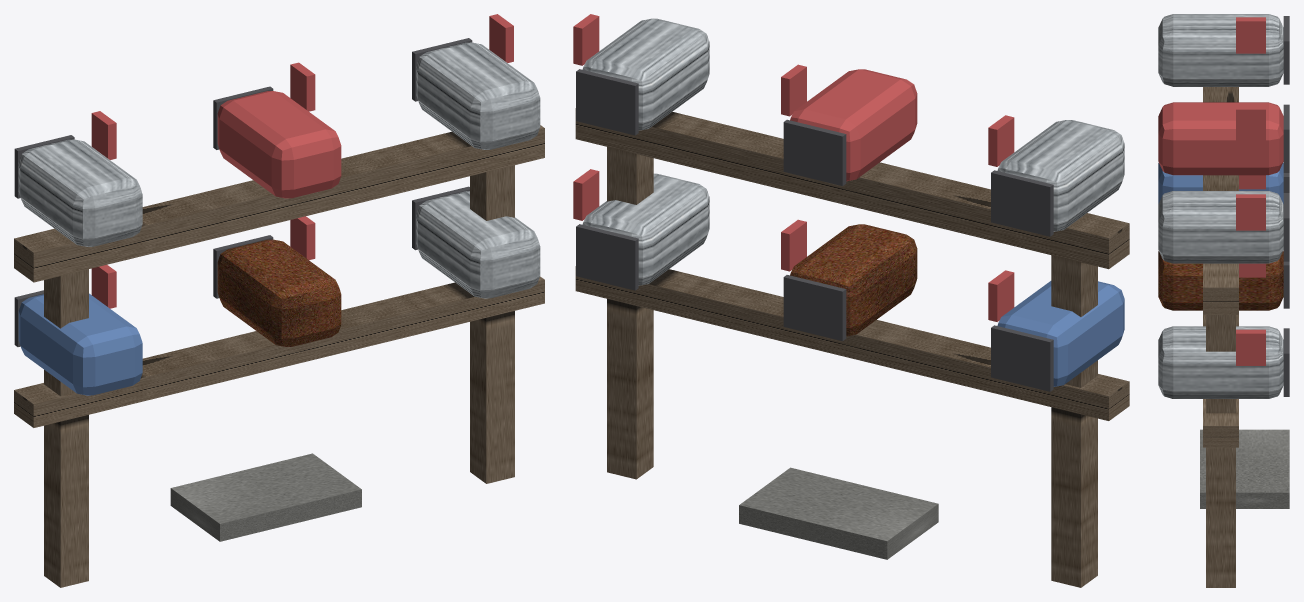
Rendered from WK_PRP_MailboxCluster.glb.
3 renders of one model, left to right at view 1: azimuth 30°, elevation 25°; view 2: azimuth 150°, elevation 25°; view 3: azimuth 270°, elevation 25°, orthographic. The views are drawn at different scales.
Visible parts, largest first — view 1: WK_PRP_MailboxCluster_P03, WK_PRP_MailboxCluster_P04, WK_PRP_MailboxCluster_P23, WK_PRP_MailboxCluster_P05, WK_PRP_MailboxCluster_P08, WK_PRP_MailboxCluster_P17, WK_PRP_MailboxCluster_P11, WK_PRP_MailboxCluster_P01, WK_PRP_MailboxCluster_P02, WK_PRP_MailboxCluster_P20, WK_PRP_MailboxCluster_P14, WK_PRP_MailboxCluster_P10 (+4 smaller); view 2: WK_PRP_MailboxCluster_P03, WK_PRP_MailboxCluster_P04, WK_PRP_MailboxCluster_P23, WK_PRP_MailboxCluster_P01, WK_PRP_MailboxCluster_P02, WK_PRP_MailboxCluster_P11, WK_PRP_MailboxCluster_P05, WK_PRP_MailboxCluster_P08, WK_PRP_MailboxCluster_P17, WK_PRP_MailboxCluster_P20, WK_PRP_MailboxCluster_P14, WK_PRP_MailboxCluster_P09 (+11 smaller); view 3: WK_PRP_MailboxCluster_P08, WK_PRP_MailboxCluster_P05, WK_PRP_MailboxCluster_P11, WK_PRP_MailboxCluster_P20, WK_PRP_MailboxCluster_P02, WK_PRP_MailboxCluster_P23, WK_PRP_MailboxCluster_P17, WK_PRP_MailboxCluster_P03, WK_PRP_MailboxCluster_P04, WK_PRP_MailboxCluster_P14, WK_PRP_MailboxCluster_P07, WK_PRP_MailboxCluster_P10 (+9 smaller).
Boxes of the visible parts, x1,y1,x2,y2 form: WK_PRP_MailboxCluster_P03: [14, 125, 544, 282]; WK_PRP_MailboxCluster_P04: [14, 276, 544, 427]; WK_PRP_MailboxCluster_P23: [170, 453, 361, 541]; WK_PRP_MailboxCluster_P05: [18, 139, 142, 246]; WK_PRP_MailboxCluster_P08: [217, 91, 341, 198]; WK_PRP_MailboxCluster_P17: [217, 239, 341, 346]; WK_PRP_MailboxCluster_P11: [416, 42, 540, 149]; WK_PRP_MailboxCluster_P01: [44, 269, 88, 587]; WK_PRP_MailboxCluster_P02: [470, 165, 514, 483]; WK_PRP_MailboxCluster_P20: [416, 191, 540, 298]; WK_PRP_MailboxCluster_P14: [18, 293, 142, 395]; WK_PRP_MailboxCluster_P10: [290, 62, 315, 111]; WK_PRP_MailboxCluster_P03: [575, 108, 1129, 269]; WK_PRP_MailboxCluster_P04: [575, 266, 1129, 420]; WK_PRP_MailboxCluster_P23: [739, 467, 938, 559]; WK_PRP_MailboxCluster_P01: [1051, 255, 1097, 587]; WK_PRP_MailboxCluster_P02: [607, 147, 653, 479]; WK_PRP_MailboxCluster_P11: [582, 18, 709, 130]; WK_PRP_MailboxCluster_P05: [997, 120, 1124, 231]; WK_PRP_MailboxCluster_P08: [790, 69, 917, 181]; WK_PRP_MailboxCluster_P17: [790, 224, 917, 336]; WK_PRP_MailboxCluster_P20: [582, 173, 709, 285]; WK_PRP_MailboxCluster_P14: [997, 281, 1124, 386]; WK_PRP_MailboxCluster_P09: [783, 119, 846, 185]; WK_PRP_MailboxCluster_P08: [1158, 102, 1283, 175]; WK_PRP_MailboxCluster_P05: [1158, 14, 1283, 86]; WK_PRP_MailboxCluster_P11: [1158, 191, 1283, 263]; WK_PRP_MailboxCluster_P20: [1158, 326, 1283, 398]; WK_PRP_MailboxCluster_P02: [1206, 315, 1235, 587]; WK_PRP_MailboxCluster_P23: [1200, 429, 1289, 508]; WK_PRP_MailboxCluster_P17: [1158, 251, 1283, 310]; WK_PRP_MailboxCluster_P03: [1203, 87, 1238, 314]; WK_PRP_MailboxCluster_P04: [1203, 315, 1238, 447]; WK_PRP_MailboxCluster_P14: [1158, 163, 1283, 203]; WK_PRP_MailboxCluster_P07: [1236, 17, 1265, 53]; WK_PRP_MailboxCluster_P10: [1236, 106, 1265, 142].
Bounding box in the file's own units: 1.8 × 1.46 × 0.44.
Materials: 7 (4 with a texture image).
